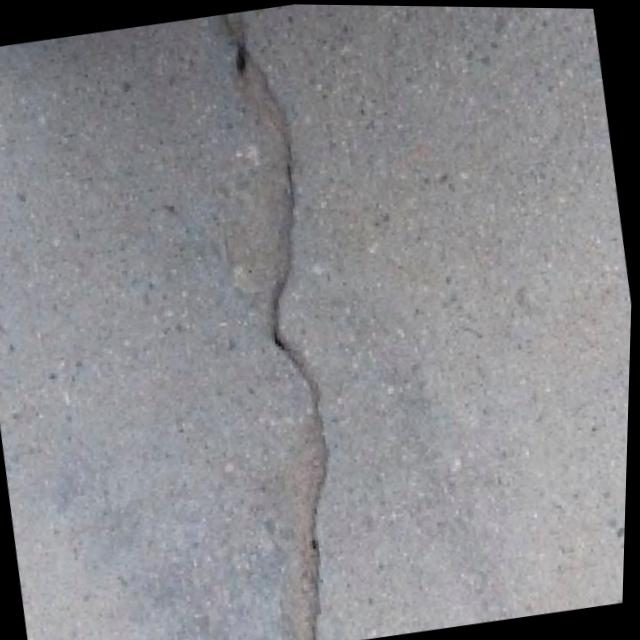Crack: (166, 2, 394, 640)
